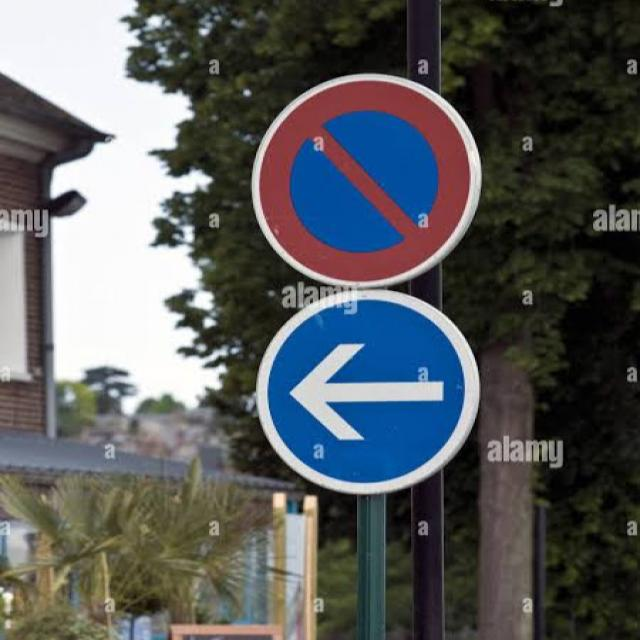Turn Left: (259, 289, 475, 505)
